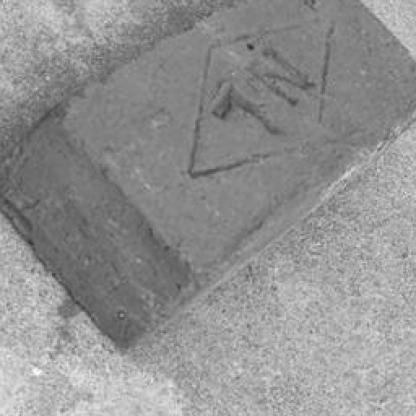brick: (0, 0, 414, 353)
